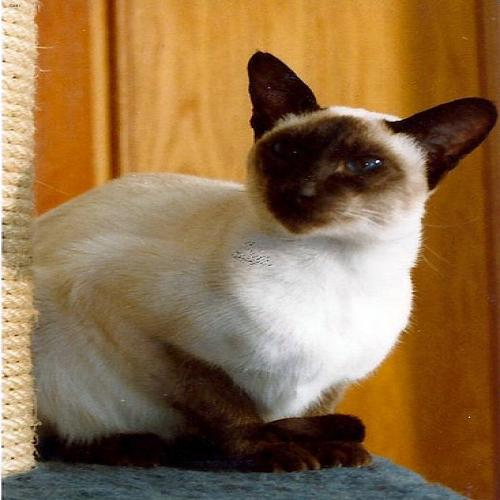siamese: (223, 34, 500, 242)
